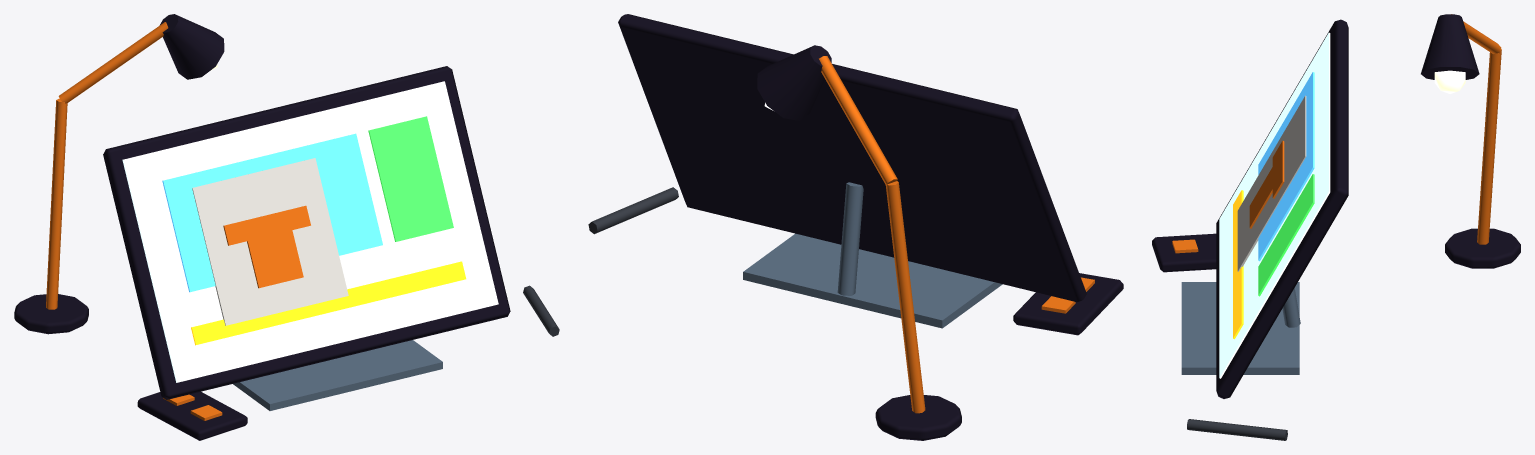
The model's file is station_intake_ausstattung_1_3.glb.
3 views of the same model, side by side, from view 1: azimuth 30°, elevation 25°; view 2: azimuth 150°, elevation 25°; view 3: azimuth 270°, elevation 25° (orthographic). The views are drawn at different scales.
Parts seen in each view (by area): view 1: station_intake_ausstattung_1_3; view 2: station_intake_ausstattung_1_3; view 3: station_intake_ausstattung_1_3.
Part boxes in pixels (x1,y1,x2,y2): station_intake_ausstattung_1_3: [14, 14, 559, 440]; station_intake_ausstattung_1_3: [588, 14, 1123, 440]; station_intake_ausstattung_1_3: [1152, 14, 1520, 440].
Bounding box in the file's own units: 0.7455 × 0.4955 × 0.5636.
